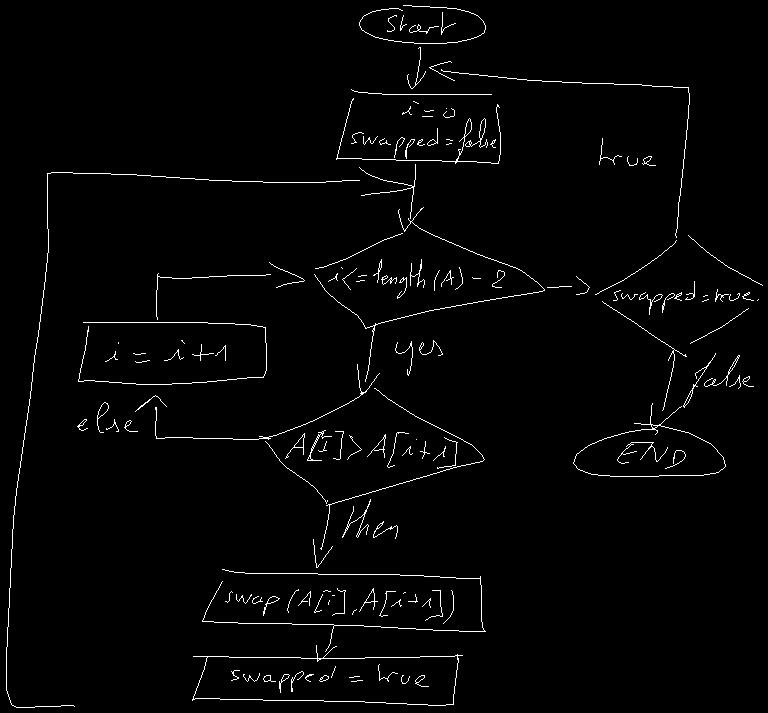arrow: (6, 167, 413, 707), (429, 61, 689, 237), (156, 262, 304, 319), (135, 395, 270, 439), (650, 350, 681, 428), (398, 164, 423, 231), (357, 323, 379, 393), (313, 504, 332, 567), (547, 276, 589, 294), (407, 47, 425, 88), (316, 626, 336, 661)
decision: (259, 388, 484, 505), (314, 218, 544, 328), (595, 235, 762, 356)
process: (202, 569, 485, 631), (192, 654, 462, 705), (336, 89, 500, 163), (78, 322, 266, 384)
terminator: (573, 423, 725, 476), (359, 5, 485, 43)
text: (351, 101, 495, 163), (225, 588, 453, 623), (328, 259, 504, 298), (285, 430, 457, 468), (231, 664, 428, 692), (613, 281, 753, 314), (683, 353, 753, 407), (105, 340, 225, 362), (342, 499, 397, 538), (77, 402, 137, 432), (617, 442, 685, 468), (395, 340, 442, 375), (599, 138, 655, 165), (387, 12, 455, 34)
